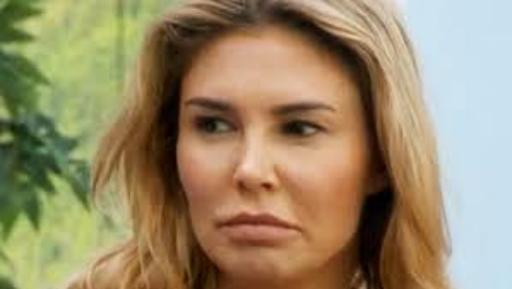left_eye: (278, 122, 332, 139)
left_lip_corner: (285, 222, 312, 237)
right_eye: (195, 119, 238, 136)
right_lip_corner: (208, 219, 233, 234)
